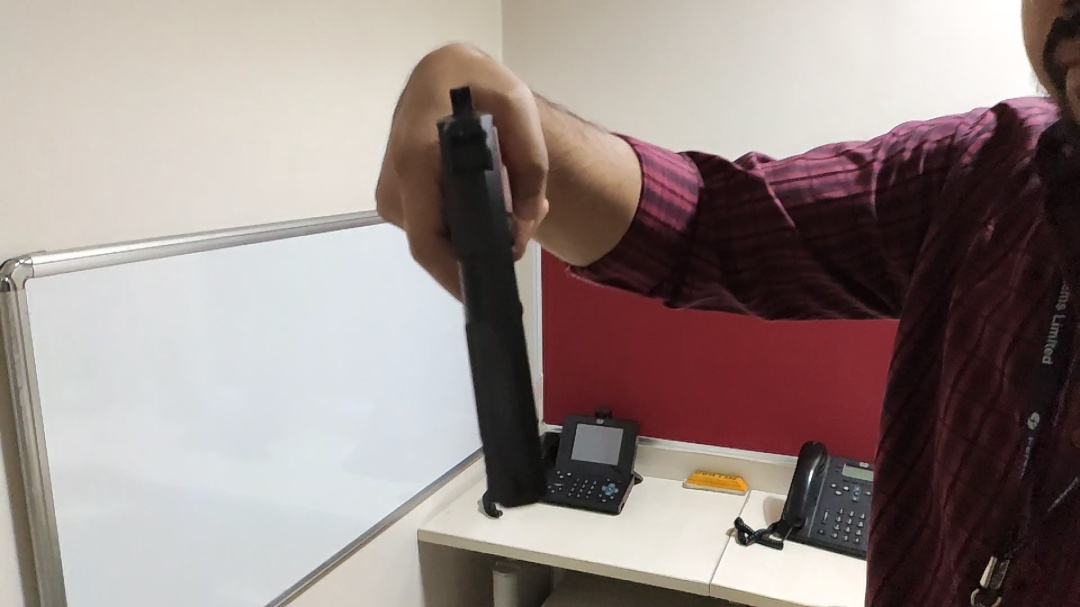gun: (395, 74, 586, 518)
